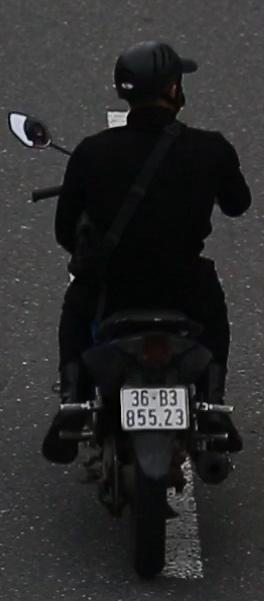LP: (117, 381, 192, 435)
helmet: (111, 35, 189, 118)
